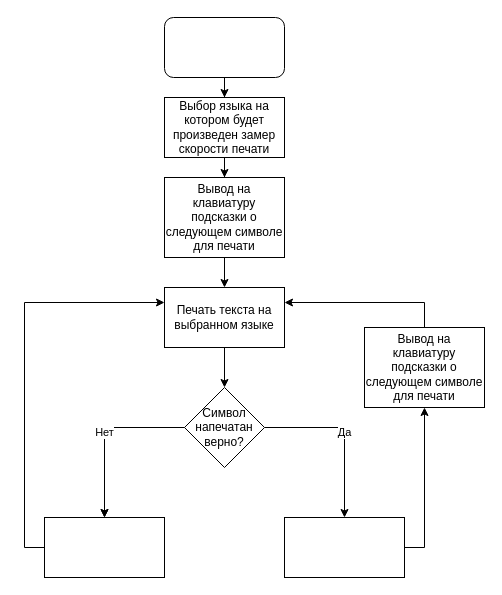
Image size: 502x595. Some labels were removed from this diagram. The centre of each missing label's shape, as x and y in pixels:
Выделить задний фон символа - зеленым: pixel 344 547
Выделить задний фон символа красным: pixel 104 547
Начало. Включение программы "Скорость": pixel 224 47
